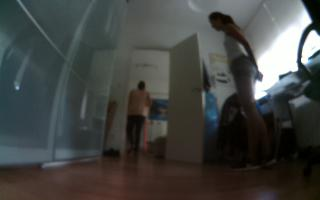person: (207, 6, 279, 178), (126, 75, 154, 162)
